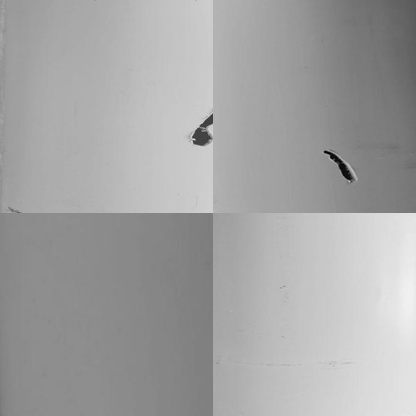kongdong: (323, 148, 358, 188), (190, 115, 216, 149)
